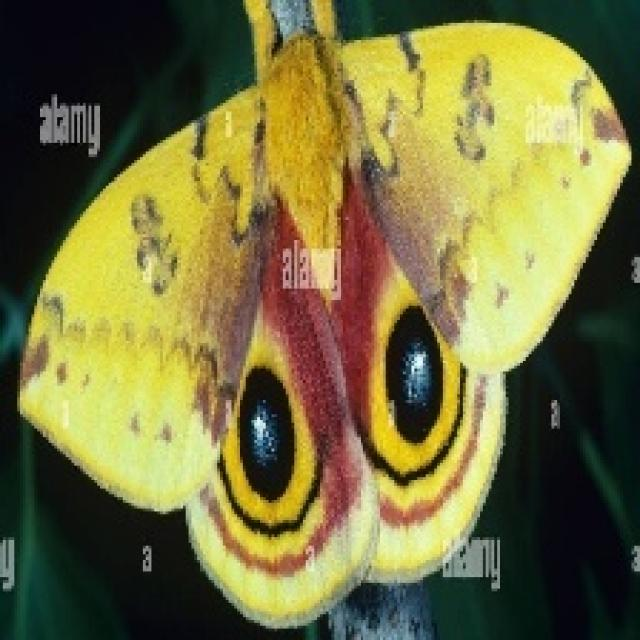butterfly: (14, 0, 631, 631)
